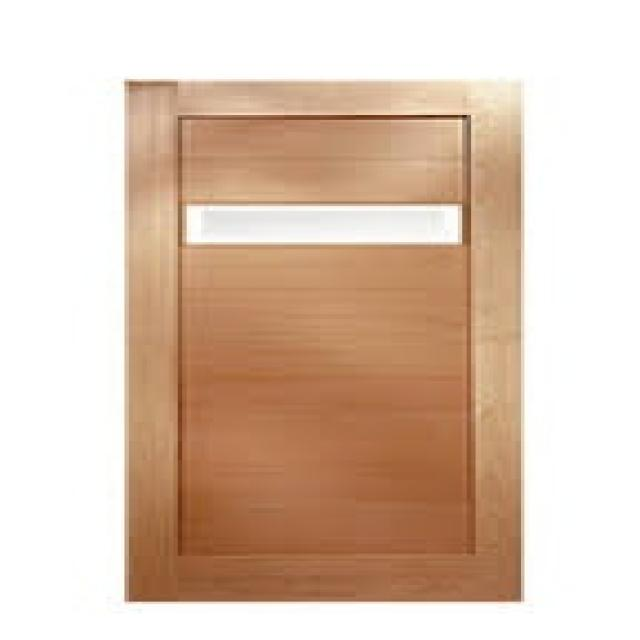door: (122, 78, 527, 603)
